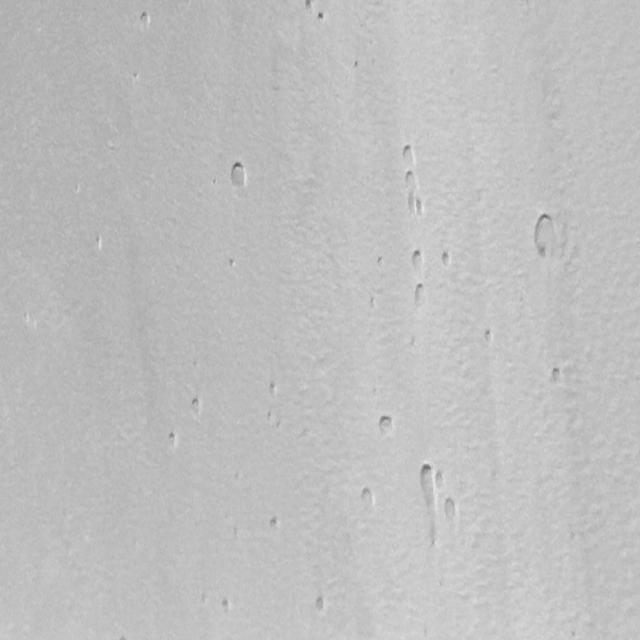pin holes: (529, 208, 560, 264), (418, 462, 437, 550), (227, 160, 250, 190), (376, 414, 398, 441), (410, 195, 431, 222), (358, 484, 379, 510), (443, 497, 461, 527), (548, 363, 568, 389), (412, 281, 431, 308), (408, 246, 426, 272), (187, 394, 205, 418), (433, 464, 448, 492), (311, 592, 329, 615), (401, 169, 419, 192), (366, 291, 384, 314), (166, 428, 183, 452), (400, 144, 418, 166), (439, 247, 456, 270), (481, 324, 498, 346), (266, 514, 284, 534), (136, 11, 152, 31), (219, 596, 235, 616), (267, 380, 281, 399), (265, 408, 278, 426), (375, 255, 388, 272), (227, 256, 240, 272), (314, 12, 327, 26), (303, 0, 316, 12)
